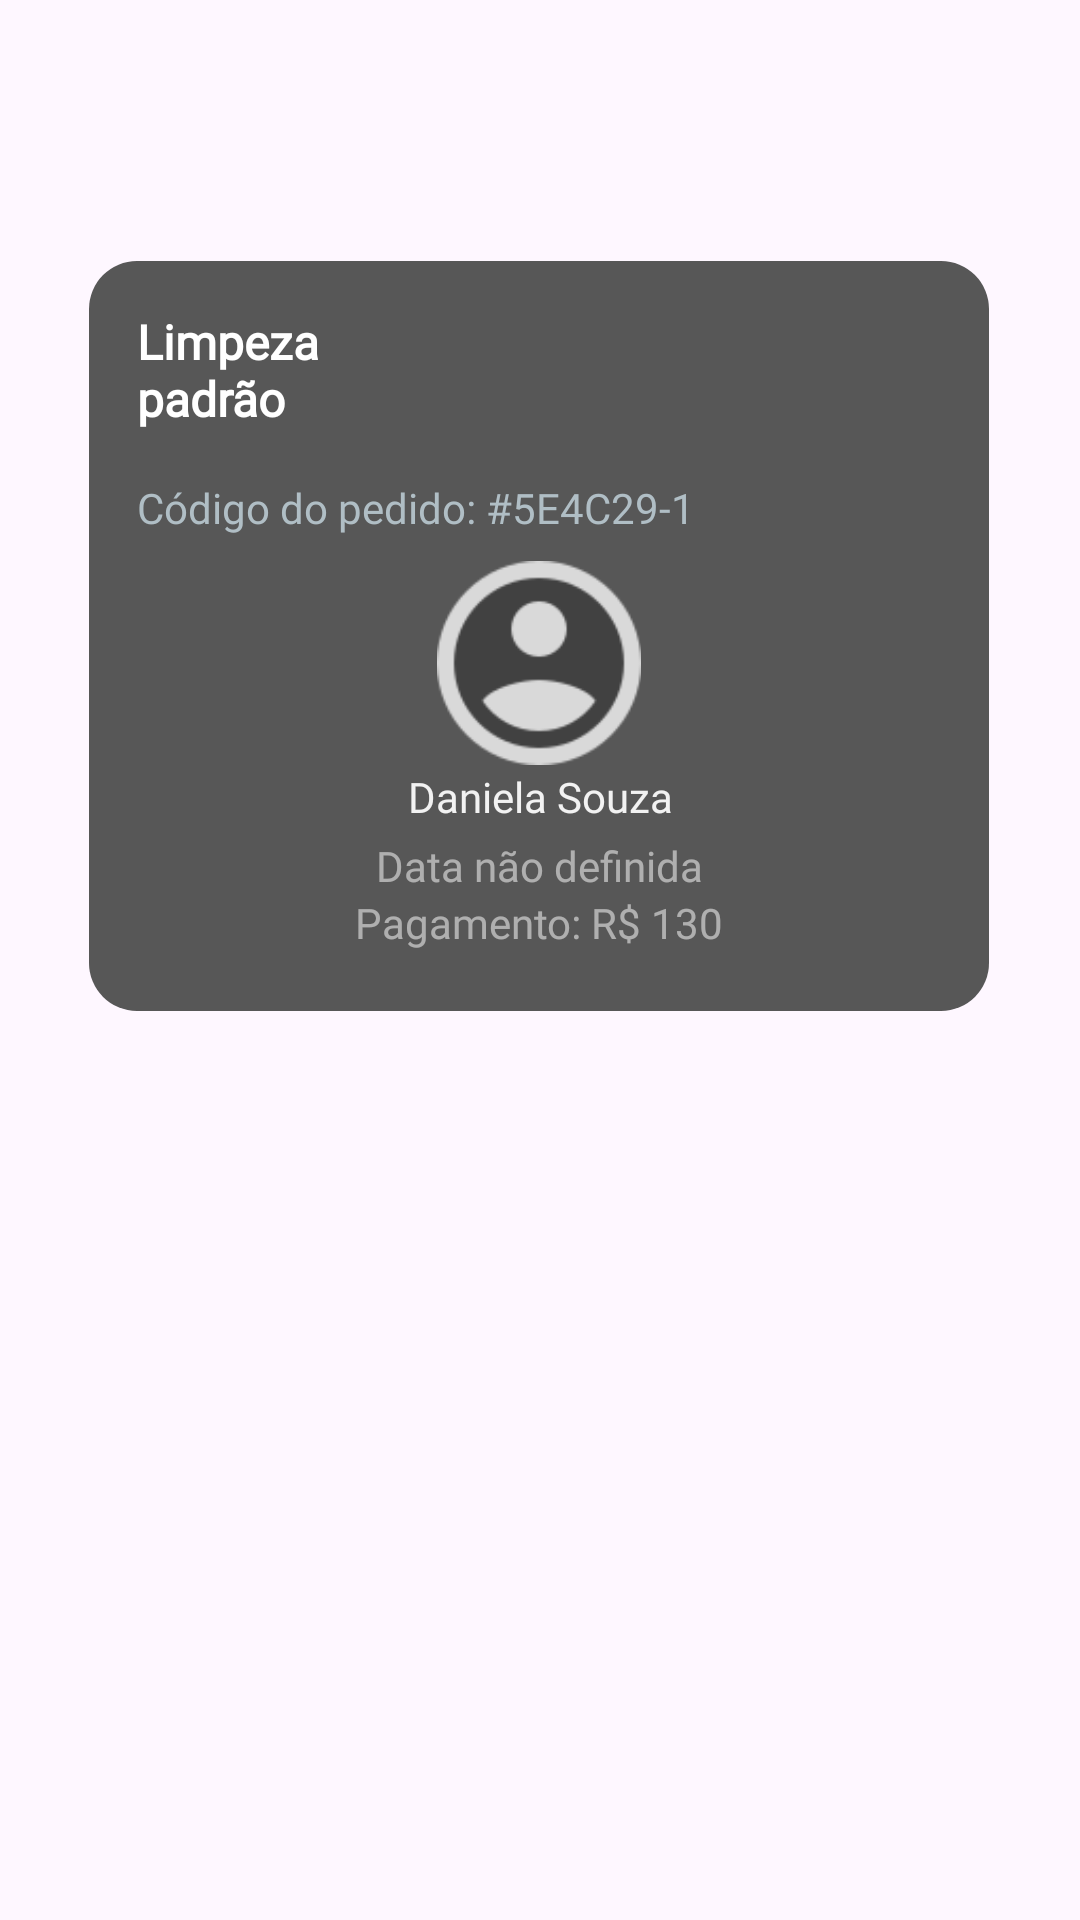

Where to tap for icons on this 1080px x 1920px app screen, as (x=x, y=y):
fotodeperfil generica: (x=539, y=663)
